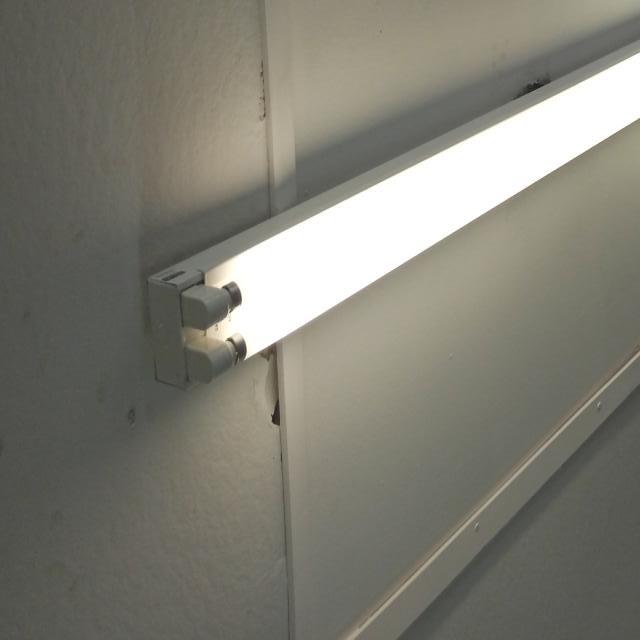fluorescent tube: (131, 0, 640, 431)
